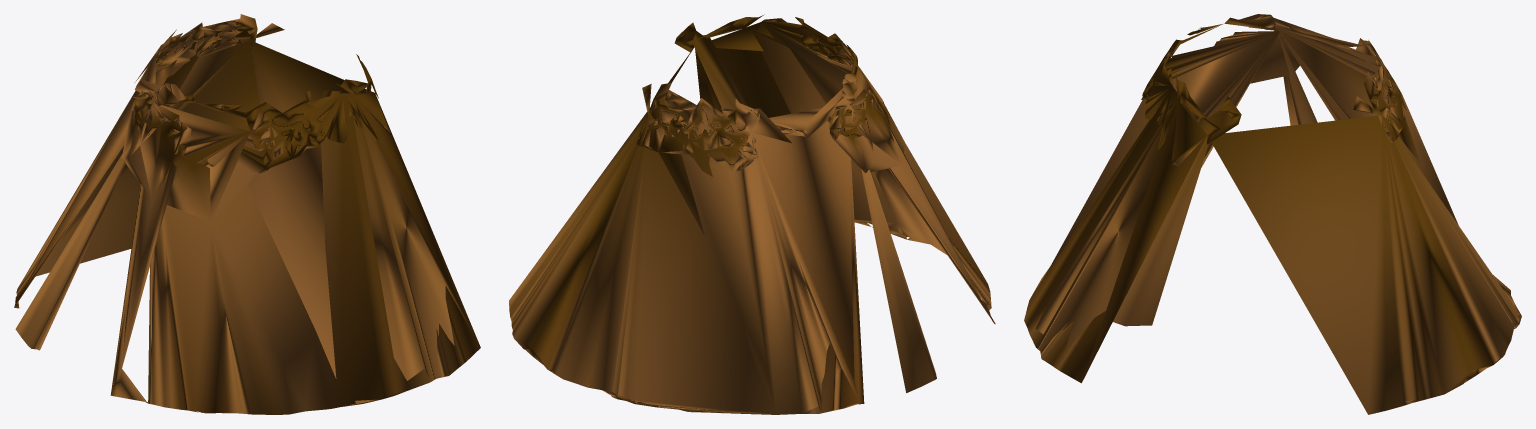
File: gen3d-termite-hill-lod1.glb
The picture shows the model from 3 angles, left to right: view 1: azimuth 30°, elevation 25°; view 2: azimuth 150°, elevation 25°; view 3: azimuth 270°, elevation 25°; orthographic projection. The views are drawn at different scales.
Parts seen in each view (by area): view 1: part_0; view 2: part_0; view 3: part_0.
Boxes of the visible parts, x1,y1,x2,y2 form: part_0: (14, 14, 480, 414); part_0: (509, 14, 995, 414); part_0: (1024, 14, 1521, 414).
Bounding box in the file's own units: 1.61 × 0.9938 × 1.69.
